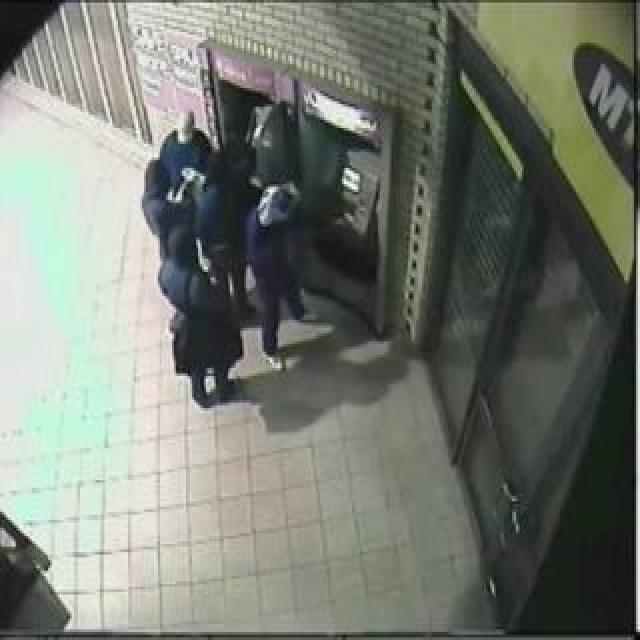thief: (141, 83, 295, 303)
